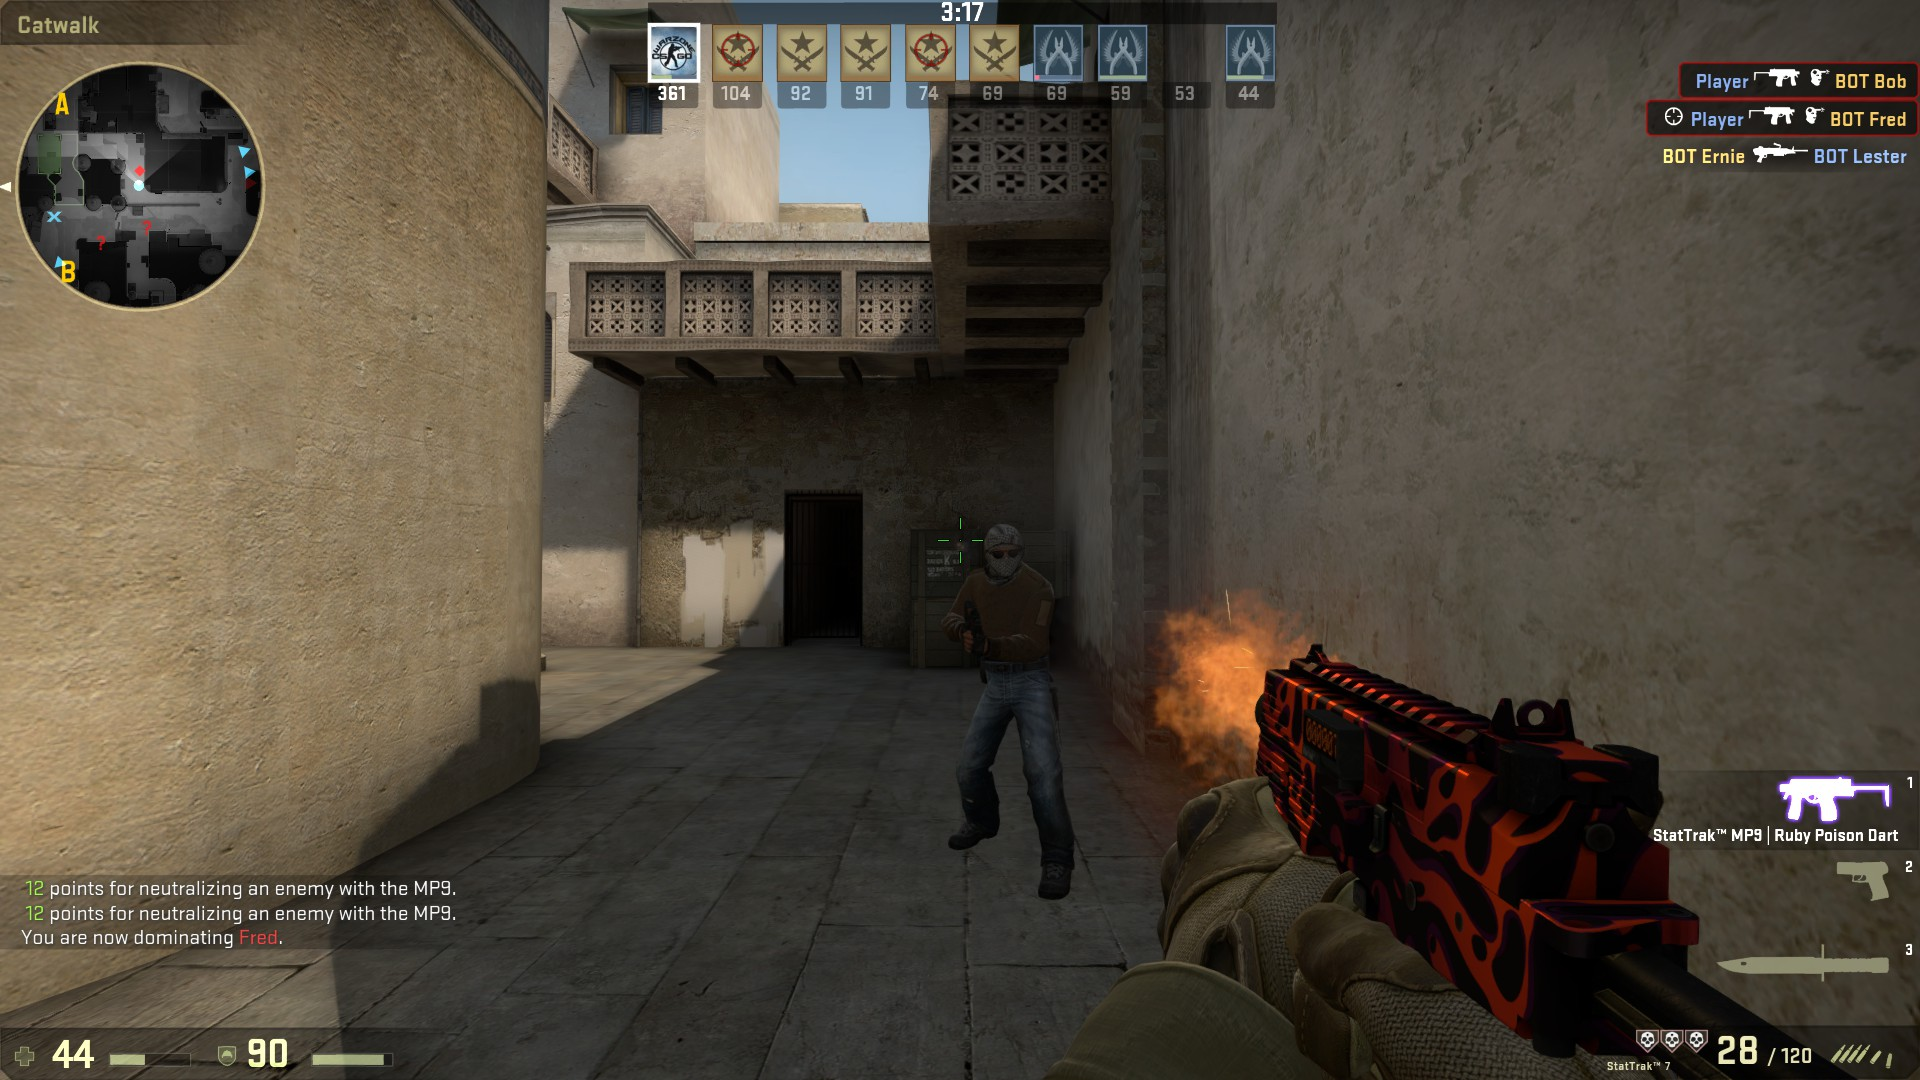t: (932, 516, 1093, 895)
th: (967, 521, 1035, 588)
